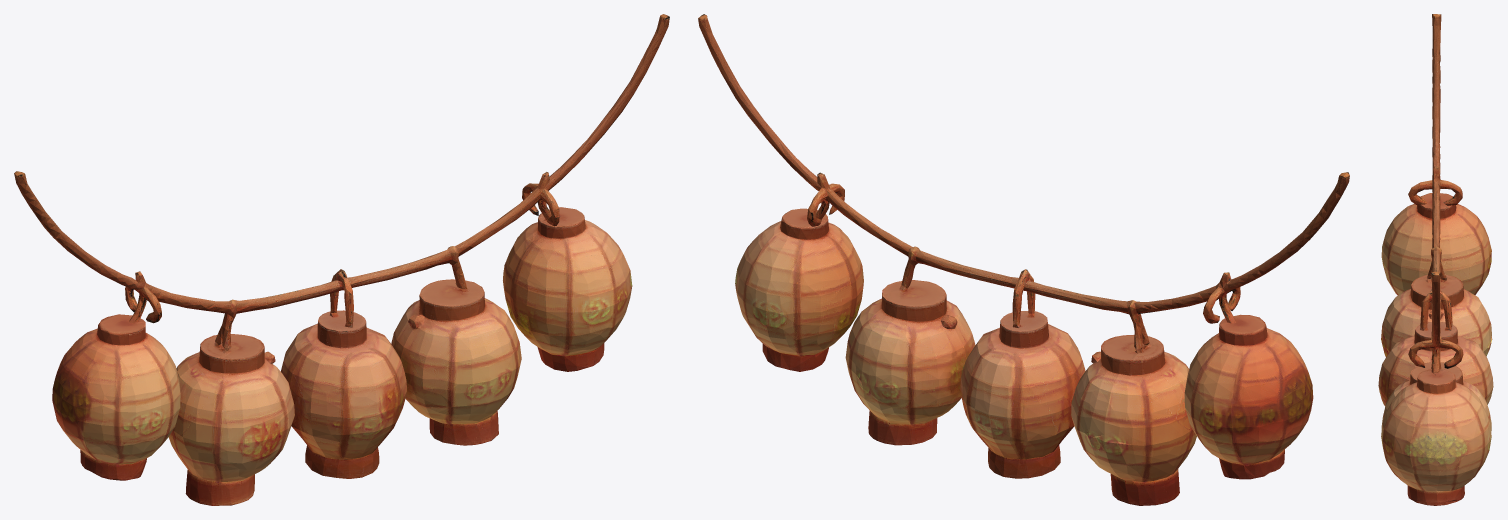
The model's file is TW_사물_s3_deco_paper_lantern_street.glb.
The picture shows the model from 3 angles, left to right: view 1: azimuth 30°, elevation 25°; view 2: azimuth 150°, elevation 25°; view 3: azimuth 270°, elevation 25°; orthographic projection. The views are drawn at different scales.
Visible parts, largest first — view 1: world; view 2: world; view 3: world.
Part boxes in pixels (bbox=[...]): world: bbox=[14, 14, 669, 505]; world: bbox=[698, 14, 1349, 505]; world: bbox=[1378, 14, 1493, 505].
Bounding box in the file's own units: 1 × 0.5424 × 0.1862.
Materials: 1 (1 with a texture image).
